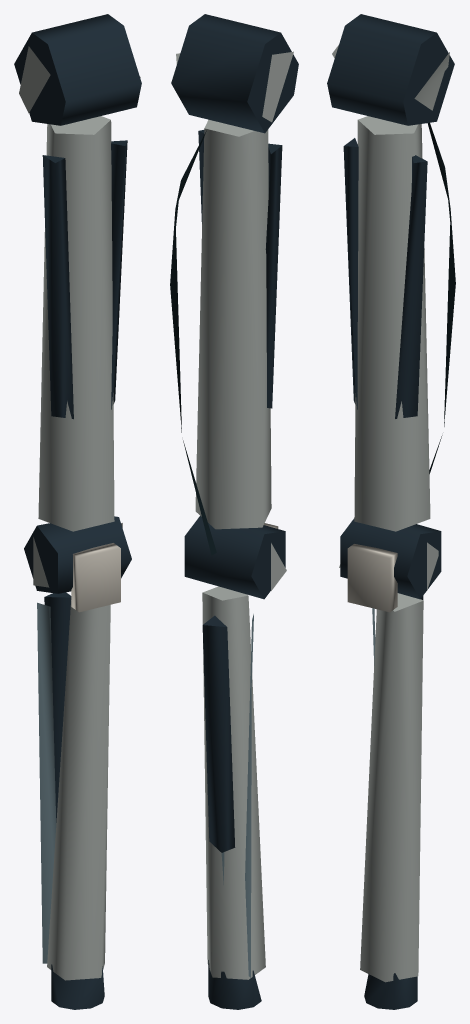
File: aurel03_leg_l_d0_lod2.glb
3 views of the same model, side by side, from view 1: azimuth 30°, elevation 25°; view 2: azimuth 150°, elevation 25°; view 3: azimuth 330°, elevation 25° (orthographic).
Visible parts, largest first — view 1: DISTANCE_SURFACE; view 2: DISTANCE_SURFACE; view 3: DISTANCE_SURFACE.
Boxes of the visible parts, left/top/right/bottom form: DISTANCE_SURFACE: left=14, top=14, right=141, bottom=1009; DISTANCE_SURFACE: left=170, top=14, right=298, bottom=1009; DISTANCE_SURFACE: left=327, top=14, right=455, bottom=1009.
Bounding box in the file's own units: 0.0834 × 0.848 × 0.084.
